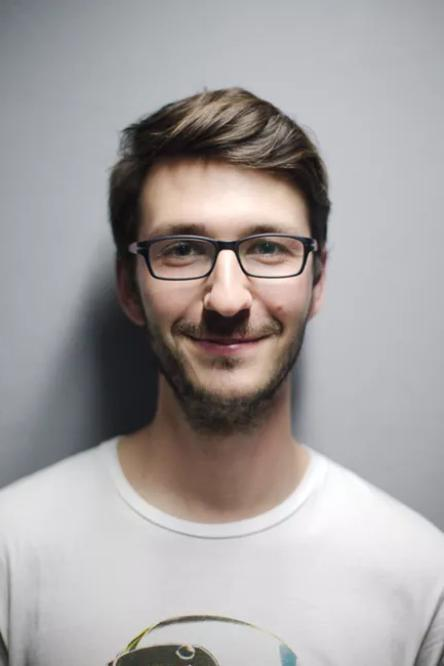face: (136, 159, 314, 407)
